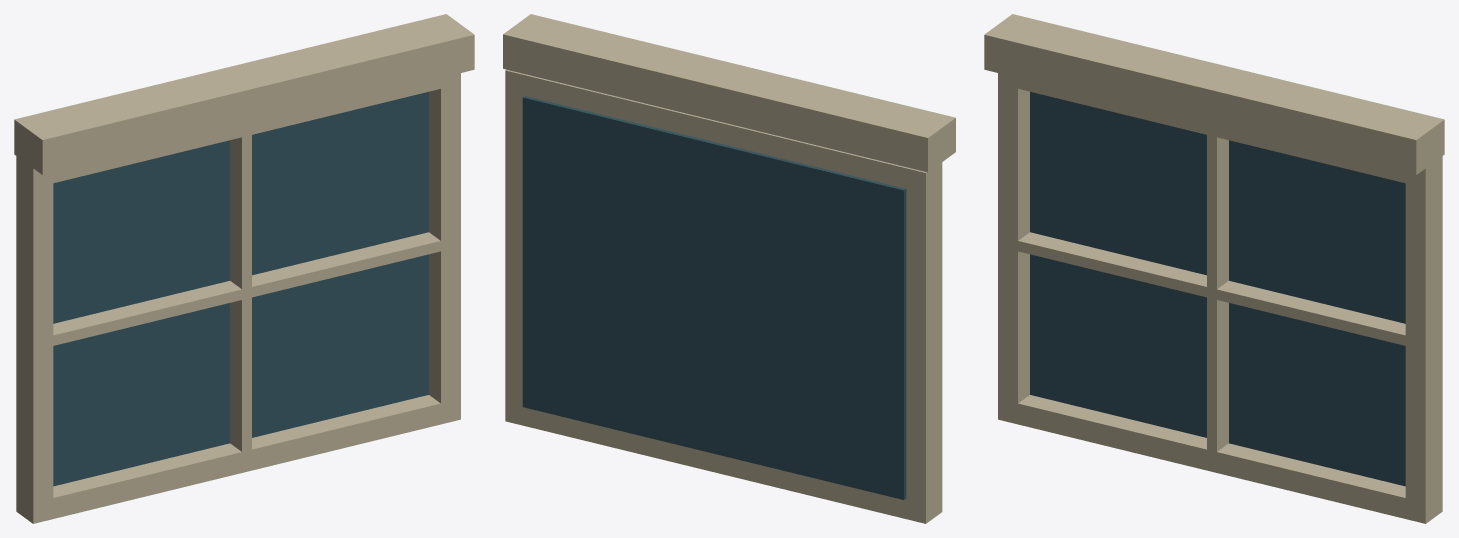
File: window_31.glb
The picture shows the model from 3 angles, left to right: view 1: azimuth 30°, elevation 25°; view 2: azimuth 150°, elevation 25°; view 3: azimuth 330°, elevation 25°; orthographic projection.
Visible parts, largest first — view 1: window_31; view 2: window_31; view 3: window_31.
Part boxes in pixels (box(x1,y1,x2,y2)): window_31: box(14, 14, 474, 523); window_31: box(503, 14, 955, 523); window_31: box(984, 14, 1444, 523).
Bounding box in the file's own units: 1.94 × 1.69 × 0.2375.
